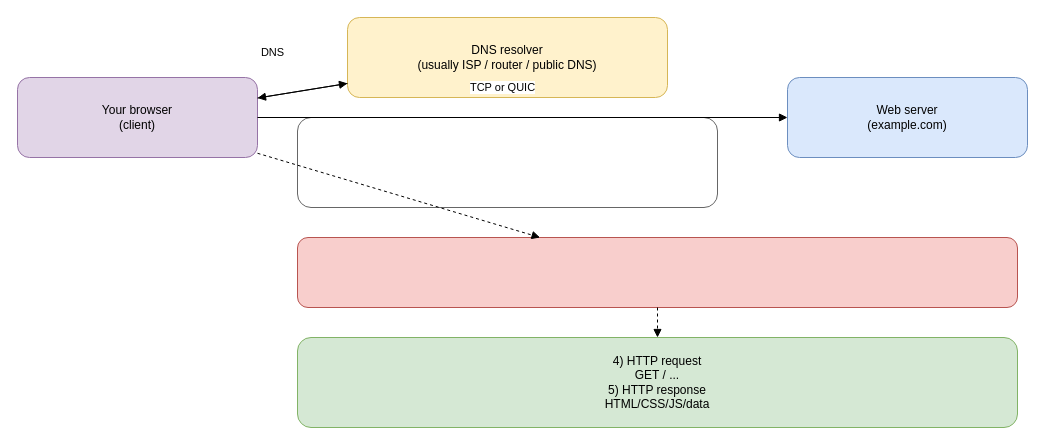
The diagram is 1045 pixels wide and 445 high, and some of its shapes have lost their labels. Here are the shapes that lost their labels. From the top down, the centre of each, then its label:
(x=507, y=162): 1) DNS query: "What is the IP for example.com?" 2) DNS response: IP address
(x=657, y=272): 3) (HTTPS) TLS handshake Sets up encryption + verifies server
